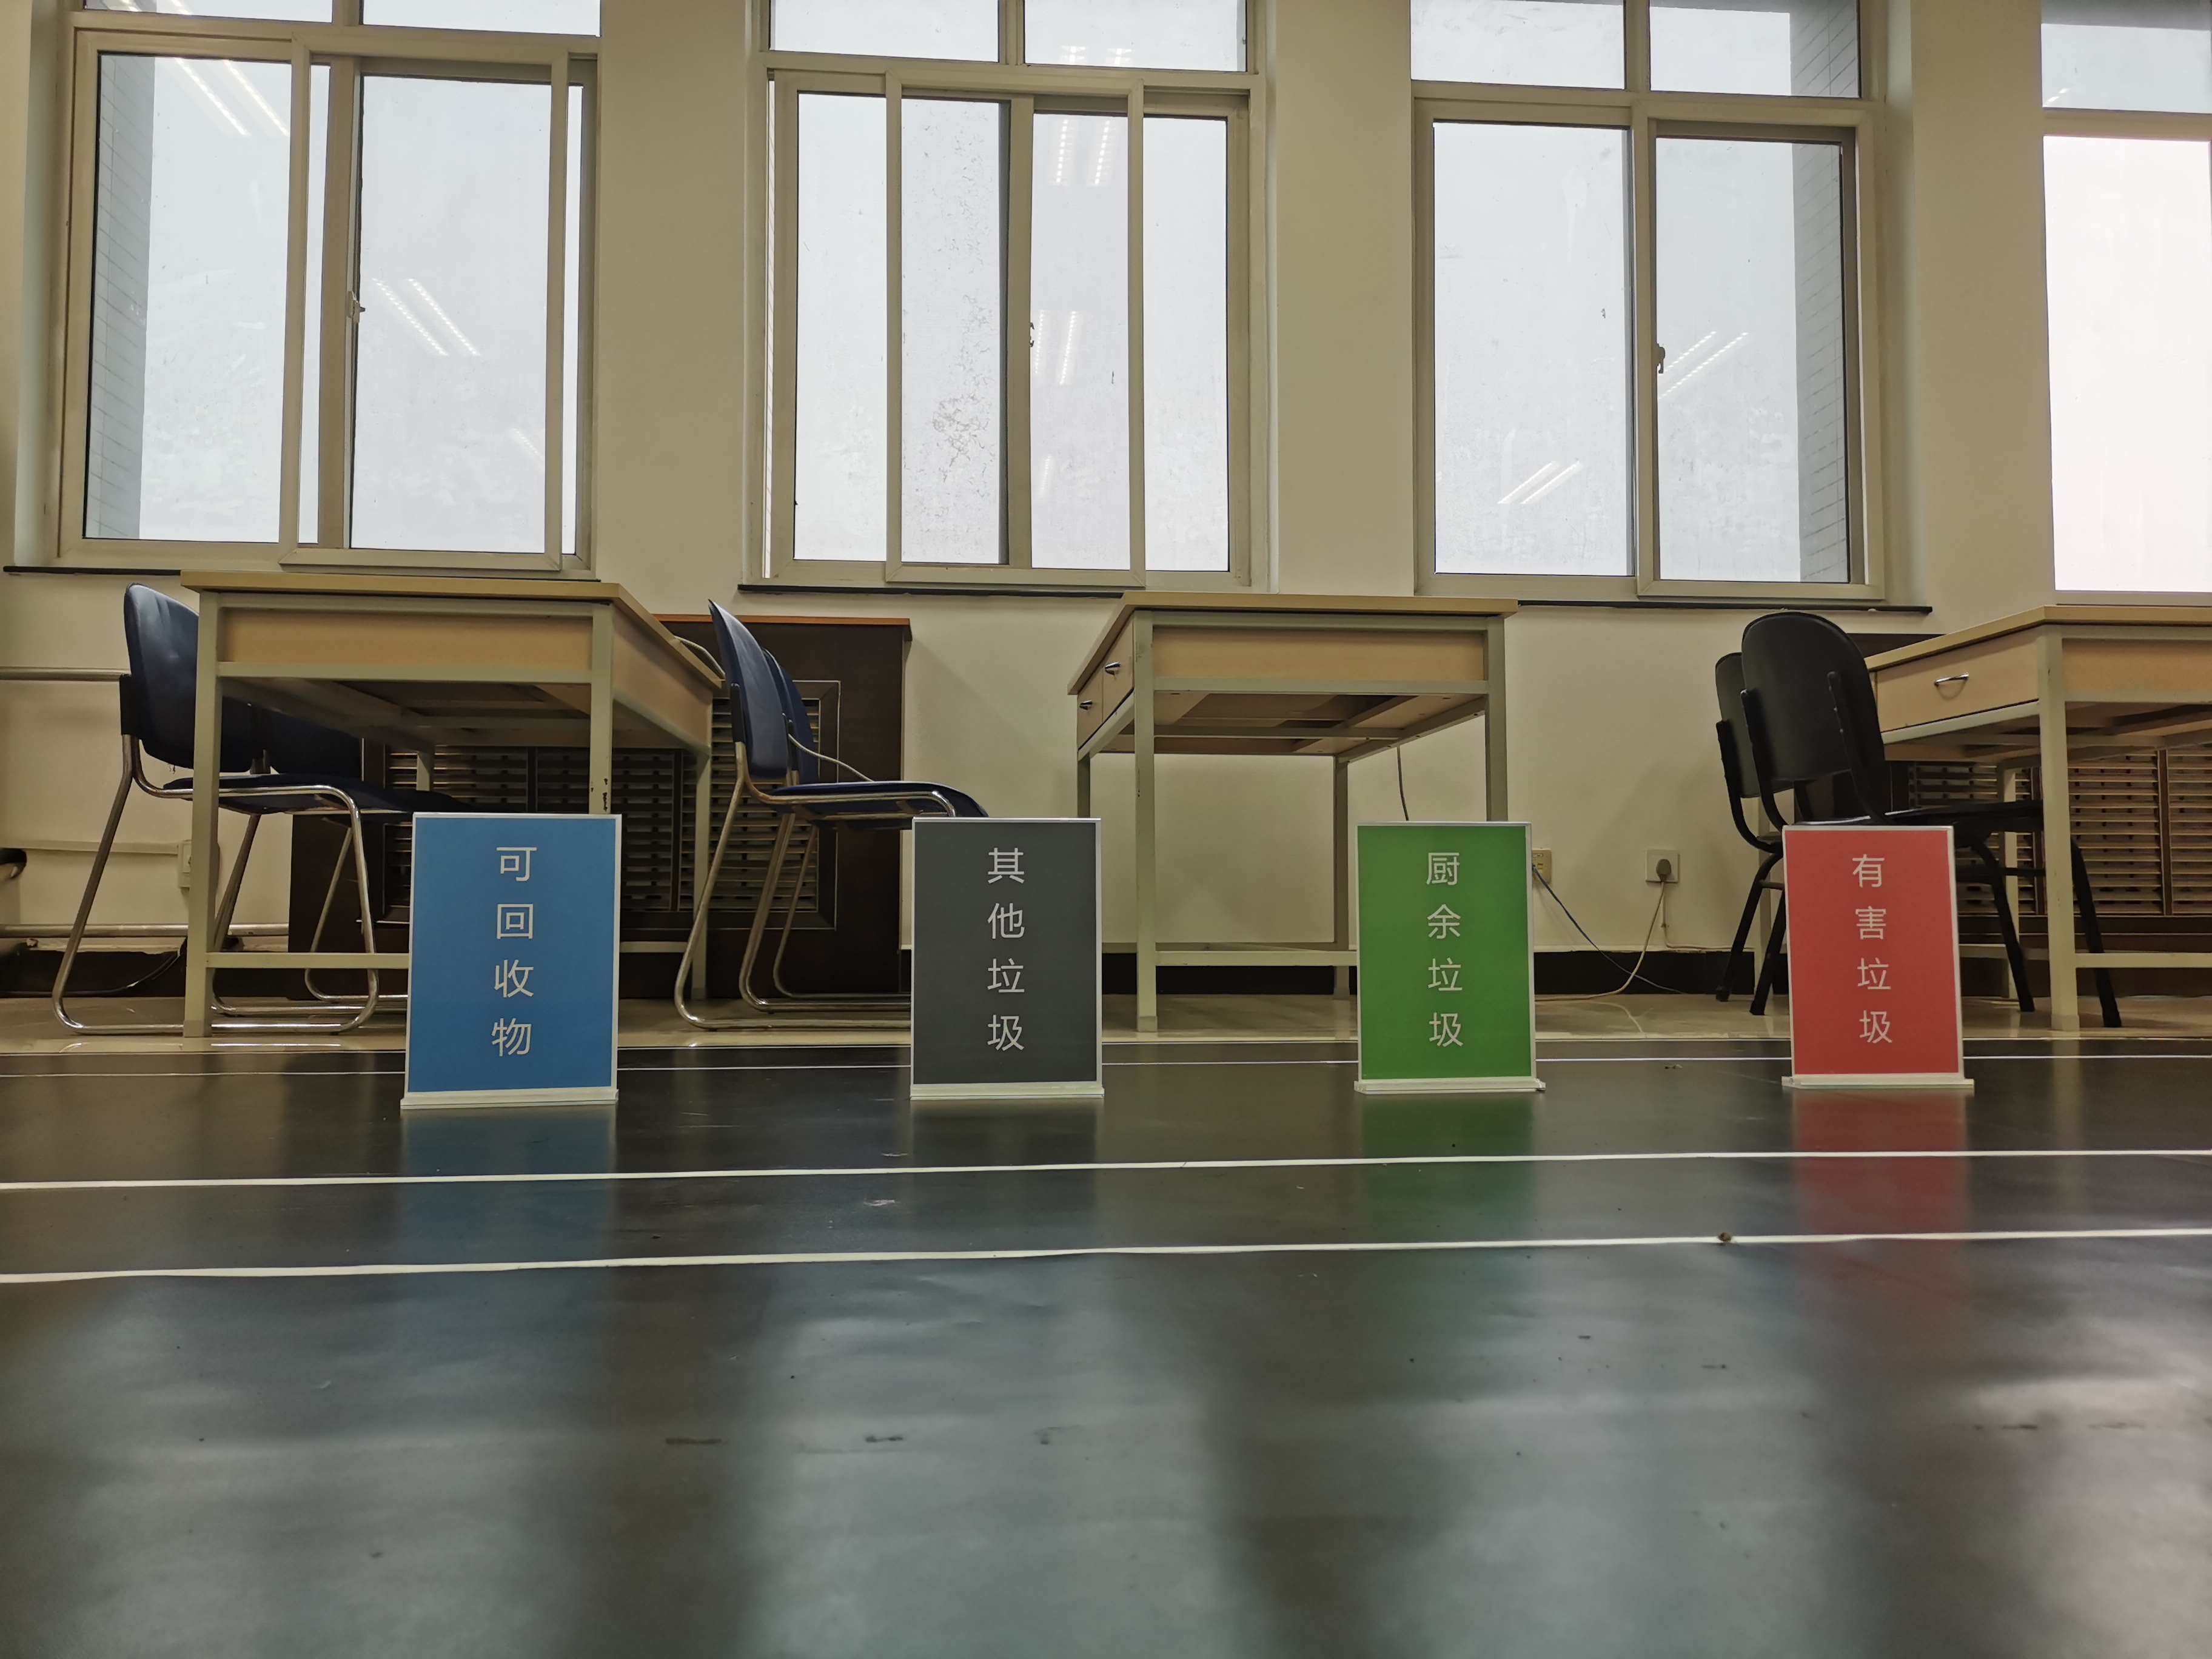black: (918, 828, 1094, 1079)
blue: (418, 824, 610, 1080)
green: (1367, 833, 1527, 1073)
red: (1794, 835, 1949, 1070)
